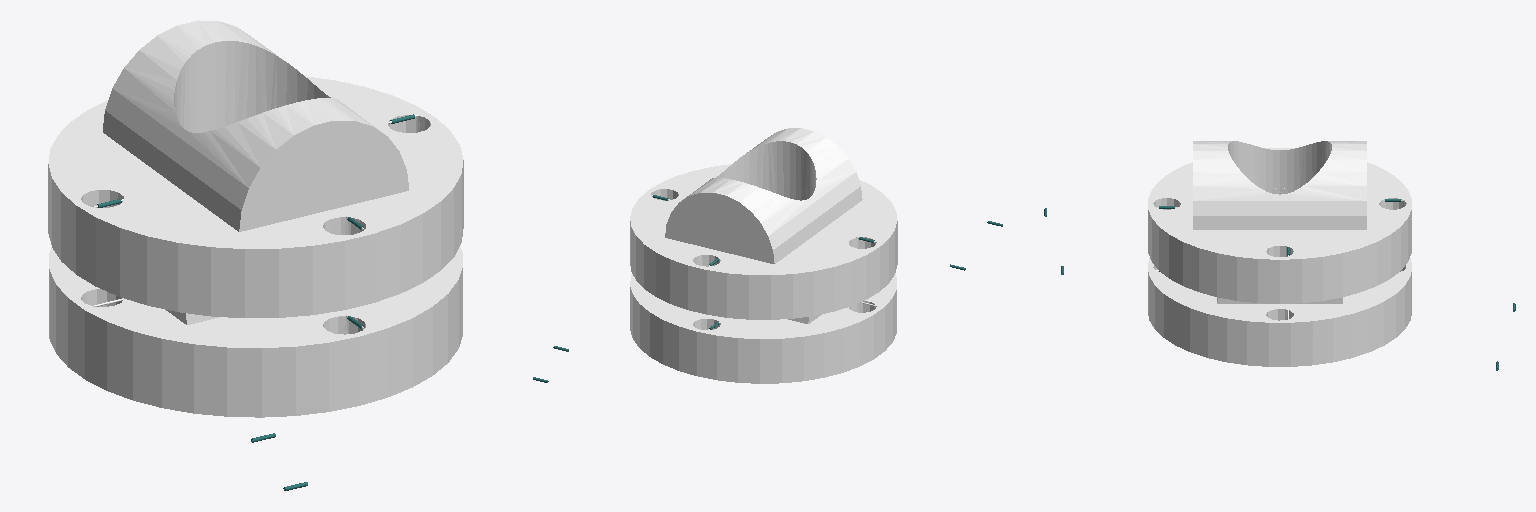
--- Render facts (derived) ---
Views: 3 orthographic renders of the robot side by side, from view 1: azimuth 30°, elevation 25°; view 2: azimuth 150°, elevation 25°; view 3: azimuth 270°, elevation 25°.
Model cylinder_joint_1_pairs_pulley_asm2 with 18 links and 17 joints (17 revolute), rooted at cylinder0_link, posed all joints at 0.
Links seen in each view (by area): view 1: cylinder1_link, cylinder0_link; view 2: cylinder1_link, cylinder0_link; view 3: cylinder1_link, cylinder0_link.
Boxes of the visible links, left/top/right/bottom form: cylinder1_link: left=48, top=20, right=463, bottom=317; cylinder0_link: left=49, top=247, right=462, bottom=417; cylinder1_link: left=630, top=128, right=897, bottom=319; cylinder0_link: left=630, top=274, right=896, bottom=383; cylinder1_link: left=1148, top=141, right=1411, bottom=303; cylinder0_link: left=1148, top=188, right=1411, bottom=366.
Size in the robot's own frame: 0.004 by 0.0068 by 0.0026 metres.
18 mesh visuals loaded from 18 distinct referenced files (18 binary STL).

URDF robot description (cylinder_joint_1_pairs_pulley_asm2):
<?xml version="1.0" encoding="utf-8"?>
<!-- This URDF was automatically created by SolidWorks to URDF Exporter! Originally created by Stephen Brawner ([email redacted]) 
     Commit Version: 1.5.1-0-g916b5db  Build Version: 1.5.7152.31018
     For more information, please see http://wiki.ros.org/sw_urdf_exporter -->
<robot
  name="cylinder_joint_1_pairs_pulley_asm2">
  <link
    name="cylinder0_link">
    <inertial>
      <origin
        xyz="-2.21147901286285E-08 -1.17124714240567E-08 0.000538226424546475"
        rpy="0 0 0" />
      <mass
        value="7.14460666884203E-06" />
      <inertia
        ixx="7.09666315631358E-12"
        ixy="4.28779632331602E-17"
        ixz="7.2023311115337E-17"
        iyy="8.71354562102051E-12"
        iyz="1.15784843060722E-16"
        izz="1.39389111967457E-11" />
    </inertial>
    <visual>
      <origin
        xyz="0 0 0"
        rpy="0 0 0" />
      <geometry>
        <mesh
          filename="package://cylinder_joint_1_pairs_pulley_asm2/meshes/cylinder0_link.STL" />
      </geometry>
      <material
        name="">
        <color
          rgba="1 1 1 1" />
      </material>
    </visual>
    <collision>
      <origin
        xyz="0 0 0"
        rpy="0 0 0" />
      <geometry>
        <mesh
          filename="package://cylinder_joint_1_pairs_pulley_asm2/meshes/cylinder0_link.STL" />
      </geometry>
    </collision>
  </link>
  <link
    name="cylinder1_link">
    <inertial>
      <origin
        xyz="2.21147901282573E-08 0.000838226424546475 -1.17124714242402E-08"
        rpy="0 0 0" />
      <mass
        value="7.14460666884203E-06" />
      <inertia
        ixx="7.09666315631358E-12"
        ixy="-7.20233111152591E-17"
        ixz="-4.28779632334134E-17"
        iyy="1.39389111967457E-11"
        iyz="1.15784843059987E-16"
        izz="8.7135456210205E-12" />
    </inertial>
    <visual>
      <origin
        xyz="0 0 0"
        rpy="0 0 0" />
      <geometry>
        <mesh
          filename="package://cylinder_joint_1_pairs_pulley_asm2/meshes/cylinder1_link.STL" />
      </geometry>
      <material
        name="">
        <color
          rgba="1 1 1 1" />
      </material>
    </visual>
    <collision>
      <origin
        xyz="0 0 0"
        rpy="0 0 0" />
      <geometry>
        <mesh
          filename="package://cylinder_joint_1_pairs_pulley_asm2/meshes/cylinder1_link.STL" />
      </geometry>
    </collision>
  </link>
  <joint
    name="cylinder1_joint"
    type="revolute">
    <origin
      xyz="0 0 0.0007"
      rpy="1.5708 0 1.5708" />
    <parent
      link="cylinder0_link" />
    <child
      link="cylinder1_link" />
    <axis
      xyz="0 0 -1" />
    <limit
      lower="0"
      upper="0"
      effort="0"
      velocity="0" />
  </joint>
  <link
    name="cylinder1_pulley_link1">
    <inertial>
      <origin
        xyz="-0.00174 0 -0.0015"
        rpy="0 0 0" />
      <mass
        value="2.26194671058465E-10" />
      <inertia
        ixx="5.65486677646163E-20"
        ixy="-7.97784710100195E-35"
        ixz="-5.89192351390783E-36"
        iyy="1.11400875496839E-18"
        iyz="2.88794327436936E-52"
        izz="1.11400875496839E-18" />
    </inertial>
    <visual>
      <origin
        xyz="0 0 0"
        rpy="0 0 0" />
      <geometry>
        <mesh
          filename="package://cylinder_joint_1_pairs_pulley_asm2/meshes/cylinder1_pulley_link1.STL" />
      </geometry>
      <material
        name="">
        <color
          rgba="0.250980392156863 0.501960784313725 0.501960784313725 1" />
      </material>
    </visual>
    <collision>
      <origin
        xyz="0 0 0"
        rpy="0 0 0" />
      <geometry>
        <mesh
          filename="package://cylinder_joint_1_pairs_pulley_asm2/meshes/cylinder1_pulley_link1.STL" />
      </geometry>
    </collision>
  </link>
  <joint
    name="cylinder1_pulley_joint1"
    type="revolute">
    <origin
      xyz="0.00012 0.001 0.00162"
      rpy="0 0 0" />
    <parent
      link="cylinder1_link" />
    <child
      link="cylinder1_pulley_link1" />
    <axis
      xyz="0 0 1" />
    <limit
      lower="0"
      upper="0"
      effort="0"
      velocity="0" />
  </joint>
  <link
    name="cylinder1_pulley_link2">
    <inertial>
      <origin
        xyz="-0.0015 2.16840434497101E-19 -0.00174"
        rpy="0 0 0" />
      <mass
        value="2.26194671058465E-10" />
      <inertia
        ixx="5.65486677646163E-20"
        ixy="-7.97784710100195E-35"
        ixz="-2.8104356028974E-36"
        iyy="1.11400875496839E-18"
        iyz="4.22977567219675E-51"
        izz="1.11400875496839E-18" />
    </inertial>
    <visual>
      <origin
        xyz="0 0 0"
        rpy="0 0 0" />
      <geometry>
        <mesh
          filename="package://cylinder_joint_1_pairs_pulley_asm2/meshes/cylinder1_pulley_link2.STL" />
      </geometry>
      <material
        name="">
        <color
          rgba="0.250980392156863 0.501960784313725 0.501960784313725 1" />
      </material>
    </visual>
    <collision>
      <origin
        xyz="0 0 0"
        rpy="0 0 0" />
      <geometry>
        <mesh
          filename="package://cylinder_joint_1_pairs_pulley_asm2/meshes/cylinder1_pulley_link2.STL" />
      </geometry>
    </collision>
  </link>
  <joint
    name="cylinder1_pulley_joint2"
    type="revolute">
    <origin
      xyz="-0.00012 0.0003 0.00162"
      rpy="0 0 0" />
    <parent
      link="cylinder1_link" />
    <child
      link="cylinder1_pulley_link2" />
    <axis
      xyz="0 0 1" />
    <limit
      lower="0"
      upper="0"
      effort="0"
      velocity="0" />
  </joint>
  <link
    name="cylinder1_pulley_link3">
    <inertial>
      <origin
        xyz="0.00149999999999998 4.33680868994202E-19 -0.00174"
        rpy="0 0 0" />
      <mass
        value="2.26194671058465E-10" />
      <inertia
        ixx="5.65486677646163E-20"
        ixy="-7.73412529070568E-51"
        ixz="-1.08812172603781E-34"
        iyy="1.11400875496777E-18"
        iyz="0"
        izz="1.11400875496777E-18" />
    </inertial>
    <visual>
      <origin
        xyz="0 0 0"
        rpy="0 0 0" />
      <geometry>
        <mesh
          filename="package://cylinder_joint_1_pairs_pulley_asm2/meshes/cylinder1_pulley_link3.STL" />
      </geometry>
      <material
        name="">
        <color
          rgba="0.250980392156863 0.501960784313725 0.501960784313725 1" />
      </material>
    </visual>
    <collision>
      <origin
        xyz="0 0 0"
        rpy="0 0 0" />
      <geometry>
        <mesh
          filename="package://cylinder_joint_1_pairs_pulley_asm2/meshes/cylinder1_pulley_link3.STL" />
      </geometry>
    </collision>
  </link>
  <joint
    name="cylinder1_pulley_joint3"
    type="revolute">
    <origin
      xyz="0.00162 0.001 -0.00012"
      rpy="0 1.5708 0" />
    <parent
      link="cylinder1_link" />
    <child
      link="cylinder1_pulley_link3" />
    <axis
      xyz="0 0 1" />
    <limit
      lower="0"
      upper="0"
      effort="0"
      velocity="0" />
  </joint>
  <link
    name="cylinder1_pulley_link4">
    <inertial>
      <origin
        xyz="0.00173999999999999 -4.33680868994202E-19 -0.0015"
        rpy="0 0 0" />
      <mass
        value="2.26194671058465E-10" />
      <inertia
        ixx="5.65486677646163E-20"
        ixy="-7.73412529049776E-51"
        ixz="-1.08812172602742E-34"
        iyy="1.11400875495822E-18"
        iyz="0"
        izz="1.11400875495822E-18" />
    </inertial>
    <visual>
      <origin
        xyz="0 0 0"
        rpy="0 0 0" />
      <geometry>
        <mesh
          filename="package://cylinder_joint_1_pairs_pulley_asm2/meshes/cylinder1_pulley_link4.STL" />
      </geometry>
      <material
        name="">
        <color
          rgba="0.250980392156863 0.501960784313725 0.501960784313725 1" />
      </material>
    </visual>
    <collision>
      <origin
        xyz="0 0 0"
        rpy="0 0 0" />
      <geometry>
        <mesh
          filename="package://cylinder_joint_1_pairs_pulley_asm2/meshes/cylinder1_pulley_link4.STL" />
      </geometry>
    </collision>
  </link>
  <joint
    name="cylinder1_pulley_joint4"
    type="revolute">
    <origin
      xyz="0.00162 0.0003 0.00012"
      rpy="0 1.5708 0" />
    <parent
      link="cylinder1_link" />
    <child
      link="cylinder1_pulley_link4" />
    <axis
      xyz="0 0 1" />
    <limit
      lower="0"
      upper="0"
      effort="0"
      velocity="0" />
  </joint>
  <link
    name="cylinder1_pulley_link5">
    <inertial>
      <origin
        xyz="0.00174 2.16840434497101E-19 0.0015"
        rpy="0 0 0" />
      <mass
        value="2.26194671058465E-10" />
      <inertia
        ixx="5.65486677646163E-20"
        ixy="-1.84164692815845E-34"
        ixz="5.53994514590172E-35"
        iyy="1.11400875496777E-18"
        iyz="1.07524819258416E-36"
        izz="1.11400875496777E-18" />
    </inertial>
    <visual>
      <origin
        xyz="0 0 0"
        rpy="0 0 0" />
      <geometry>
        <mesh
          filename="package://cylinder_joint_1_pairs_pulley_asm2/meshes/cylinder1_pulley_link5.STL" />
      </geometry>
      <material
        name="">
        <color
          rgba="0.250980392156863 0.501960784313725 0.501960784313725 1" />
      </material>
    </visual>
    <collision>
      <origin
        xyz="0 0 0"
        rpy="0 0 0" />
      <geometry>
        <mesh
          filename="package://cylinder_joint_1_pairs_pulley_asm2/meshes/cylinder1_pulley_link5.STL" />
      </geometry>
    </collision>
  </link>
  <joint
    name="cylinder1_pulley_joint5"
    type="revolute">
    <origin
      xyz="-0.00012 0.001 -0.00162"
      rpy="0 0 0" />
    <parent
      link="cylinder1_link" />
    <child
      link="cylinder1_pulley_link5" />
    <axis
      xyz="0 0 -1" />
    <limit
      lower="0"
      upper="0"
      effort="0"
      velocity="0" />
  </joint>
  <link
    name="cylinder1_pulley_link6">
    <inertial>
      <origin
        xyz="0.00149999999999999 4.33680868994202E-19 0.00174"
        rpy="0 0 0" />
      <mass
        value="2.26194671058465E-10" />
      <inertia
        ixx="5.65486677646163E-20"
        ixy="-1.63226740399668E-34"
        ixz="4.11207011338986E-35"
        iyy="1.11400875496777E-18"
        iyz="9.26853785736369E-37"
        izz="1.11400875496777E-18" />
    </inertial>
    <visual>
      <origin
        xyz="0 0 0"
        rpy="0 0 0" />
      <geometry>
        <mesh
          filename="package://cylinder_joint_1_pairs_pulley_asm2/meshes/cylinder1_pulley_link6.STL" />
      </geometry>
      <material
        name="">
        <color
          rgba="0.250980392156863 0.501960784313725 0.501960784313725 1" />
      </material>
    </visual>
    <collision>
      <origin
        xyz="0 0 0"
        rpy="0 0 0" />
      <geometry>
        <mesh
          filename="package://cylinder_joint_1_pairs_pulley_asm2/meshes/cylinder1_pulley_link6.STL" />
      </geometry>
    </collision>
  </link>
  <joint
    name="cylinder1_pulley_joint6"
    type="revolute">
    <origin
      xyz="0.00012 0.0003 -0.00162"
      rpy="0 0 0" />
    <parent
      link="cylinder1_link" />
    <child
      link="cylinder1_pulley_link6" />
    <axis
      xyz="0 0 -1" />
    <limit
      lower="0"
      upper="0"
      effort="0"
      velocity="0" />
  </joint>
  <link
    name="cylinder1_pulley_link7">
    <inertial>
      <origin
        xyz="-0.00149999999999999 2.16840434497101E-19 0.00174"
        rpy="0 0 0" />
      <mass
        value="2.26194671058465E-10" />
      <inertia
        ixx="5.65486677646163E-20"
        ixy="-7.14923246559304E-36"
        ixz="-4.84963182011873E-35"
        iyy="1.11400875494747E-18"
        iyz="-4.65961258688552E-36"
        izz="1.11400875494747E-18" />
    </inertial>
    <visual>
      <origin
        xyz="0 0 0"
        rpy="0 0 0" />
      <geometry>
        <mesh
          filename="package://cylinder_joint_1_pairs_pulley_asm2/meshes/cylinder1_pulley_link7.STL" />
      </geometry>
      <material
        name="">
        <color
          rgba="0.250980392156863 0.501960784313725 0.501960784313725 1" />
      </material>
    </visual>
    <collision>
      <origin
        xyz="0 0 0"
        rpy="0 0 0" />
      <geometry>
        <mesh
          filename="package://cylinder_joint_1_pairs_pulley_asm2/meshes/cylinder1_pulley_link7.STL" />
      </geometry>
    </collision>
  </link>
  <joint
    name="cylinder1_pulley_joint7"
    type="revolute">
    <origin
      xyz="-0.00162 0.001 0.00012"
      rpy="0 1.5708 0" />
    <parent
      link="cylinder1_link" />
    <child
      link="cylinder1_pulley_link7" />
    <axis
      xyz="0 0 -1" />
    <limit
      lower="0"
      upper="0"
      effort="0"
      velocity="0" />
  </joint>
  <link
    name="cylinder1_pulley_link8">
    <inertial>
      <origin
        xyz="-0.00174 -4.33680868994202E-19 0.0015"
        rpy="0 0 0" />
      <mass
        value="2.26194671058465E-10" />
      <inertia
        ixx="5.65486677646162E-20"
        ixy="-1.89513880598251E-36"
        ixz="-5.15205864248841E-35"
        iyy="1.11400875496437E-18"
        iyz="5.20254991764332E-36"
        izz="1.11400875496437E-18" />
    </inertial>
    <visual>
      <origin
        xyz="0 0 0"
        rpy="0 0 0" />
      <geometry>
        <mesh
          filename="package://cylinder_joint_1_pairs_pulley_asm2/meshes/cylinder1_pulley_link8.STL" />
      </geometry>
      <material
        name="">
        <color
          rgba="0.250980392156863 0.501960784313725 0.501960784313725 1" />
      </material>
    </visual>
    <collision>
      <origin
        xyz="0 0 0"
        rpy="0 0 0" />
      <geometry>
        <mesh
          filename="package://cylinder_joint_1_pairs_pulley_asm2/meshes/cylinder1_pulley_link8.STL" />
      </geometry>
    </collision>
  </link>
  <joint
    name="cylinder1_pulley_joint8"
    type="revolute">
    <origin
      xyz="-0.00162 0.0003 -0.00012"
      rpy="0 1.5708 0" />
    <parent
      link="cylinder1_link" />
    <child
      link="cylinder1_pulley_link8" />
    <axis
      xyz="0 0 -1" />
    <limit
      lower="0"
      upper="0"
      effort="0"
      velocity="0" />
  </joint>
  <link
    name="cylinder0_pulley_link1">
    <inertial>
      <origin
        xyz="-0.00174 -8.67361737988404E-19 -0.0015"
        rpy="0 0 0" />
      <mass
        value="2.26194671058465E-10" />
      <inertia
        ixx="5.65486677646163E-20"
        ixy="-8.33647624414051E-35"
        ixz="-6.79704327489692E-35"
        iyy="1.11400875494747E-18"
        iyz="1.05187936488982E-35"
        izz="1.11400875494747E-18" />
    </inertial>
    <visual>
      <origin
        xyz="0 0 0"
        rpy="0 0 0" />
      <geometry>
        <mesh
          filename="package://cylinder_joint_1_pairs_pulley_asm2/meshes/cylinder0_pulley_link1.STL" />
      </geometry>
      <material
        name="">
        <color
          rgba="0.250980392156863 0.501960784313725 0.501960784313725 1" />
      </material>
    </visual>
    <collision>
      <origin
        xyz="0 0 0"
        rpy="0 0 0" />
      <geometry>
        <mesh
          filename="package://cylinder_joint_1_pairs_pulley_asm2/meshes/cylinder0_pulley_link1.STL" />
      </geometry>
    </collision>
  </link>
  <joint
    name="cylinder0_pulley_joint1"
    type="revolute">
    <origin
      xyz="0.00162 0.00012 0.0007"
      rpy="1.5708 0 1.5708" />
    <parent
      link="cylinder0_link" />
    <child
      link="cylinder0_pulley_link1" />
    <axis
      xyz="0 0 1" />
    <limit
      lower="0"
      upper="0"
      effort="0"
      velocity="0" />
  </joint>
  <link
    name="cylinder0_pulley_link2">
    <inertial>
      <origin
        xyz="-0.00150000000000001 -7.89287295950767E-19 -0.00174"
        rpy="0 0 0" />
      <mass
        value="2.26194671058465E-10" />
      <inertia
        ixx="5.65486677646163E-20"
        ixy="5.68811103690046E-47"
        ixz="-7.50772634595873E-35"
        iyy="1.11400875496777E-18"
        iyz="0"
        izz="1.11400875496777E-18" />
    </inertial>
    <visual>
      <origin
        xyz="0 0 0"
        rpy="0 0 0" />
      <geometry>
        <mesh
          filename="package://cylinder_joint_1_pairs_pulley_asm2/meshes/cylinder0_pulley_link2.STL" />
      </geometry>
      <material
        name="">
        <color
          rgba="0.250980392156863 0.501960784313725 0.501960784313725 1" />
      </material>
    </visual>
    <collision>
      <origin
        xyz="0 0 0"
        rpy="0 0 0" />
      <geometry>
        <mesh
          filename="package://cylinder_joint_1_pairs_pulley_asm2/meshes/cylinder0_pulley_link2.STL" />
      </geometry>
    </collision>
  </link>
  <joint
    name="cylinder0_pulley_joint2"
    type="revolute">
    <origin
      xyz="0.00162 -0.00012 0"
      rpy="1.5708 0 1.5708" />
    <parent
      link="cylinder0_link" />
    <child
      link="cylinder0_pulley_link2" />
    <axis
      xyz="0 0 1" />
    <limit
      lower="0"
      upper="0"
      effort="0"
      velocity="0" />
  </joint>
  <link
    name="cylinder0_pulley_link3">
    <inertial>
      <origin
        xyz="0.0015 2.60208521396521E-18 -0.00173999999999998"
        rpy="0 0 0" />
      <mass
        value="2.26194671058465E-10" />
      <inertia
        ixx="5.65486677646163E-20"
        ixy="8.2661449393321E-35"
        ixz="1.02066884131912E-34"
        iyy="1.11400875496777E-18"
        iyz="1.28292706084425E-49"
        izz="1.11400875496777E-18" />
    </inertial>
    <visual>
      <origin
        xyz="0 0 0"
        rpy="0 0 0" />
      <geometry>
        <mesh
          filename="package://cylinder_joint_1_pairs_pulley_asm2/meshes/cylinder0_pulley_link3.STL" />
      </geometry>
      <material
        name="">
        <color
          rgba="0.250980392156863 0.501960784313725 0.501960784313725 1" />
      </material>
    </visual>
    <collision>
      <origin
        xyz="0 0 0"
        rpy="0 0 0" />
      <geometry>
        <mesh
          filename="package://cylinder_joint_1_pairs_pulley_asm2/meshes/cylinder0_pulley_link3.STL" />
      </geometry>
    </collision>
  </link>
  <joint
    name="cylinder0_pulley_joint3"
    type="revolute">
    <origin
      xyz="-0.00012 0.00162 0.0007"
      rpy="1.5708 0 0" />
    <parent
      link="cylinder0_link" />
    <child
      link="cylinder0_pulley_link3" />
    <axis
      xyz="0 0 1" />
    <limit
      lower="0"
      upper="0"
      effort="0"
      velocity="0" />
  </joint>
  <link
    name="cylinder0_pulley_link4">
    <inertial>
      <origin
        xyz="0.00173999999999999 -3.22505617460437E-18 -0.0015"
        rpy="0 0 0" />
      <mass
        value="2.26194671058465E-10" />
      <inertia
        ixx="5.65486677646163E-20"
        ixy="2.05752215733798E-34"
        ixz="1.31335460949779E-34"
        iyy="1.11400875496839E-18"
        iyz="-9.36046151559757E-38"
        izz="1.11400875496839E-18" />
    </inertial>
    <visual>
      <origin
        xyz="0 0 0"
        rpy="0 0 0" />
      <geometry>
        <mesh
          filename="package://cylinder_joint_1_pairs_pulley_asm2/meshes/cylinder0_pulley_link4.STL" />
      </geometry>
      <material
        name="">
        <color
          rgba="0.250980392156863 0.501960784313725 0.501960784313725 1" />
      </material>
    </visual>
    <collision>
      <origin
        xyz="0 0 0"
        rpy="0 0 0" />
      <geometry>
        <mesh
          filename="package://cylinder_joint_1_pairs_pulley_asm2/meshes/cylinder0_pulley_link4.STL" />
      </geometry>
    </collision>
  </link>
  <joint
    name="cylinder0_pulley_joint4"
    type="revolute">
    <origin
      xyz="0.00012 0.00162 0"
      rpy="1.5708 0 0" />
    <parent
      link="cylinder0_link" />
    <child
      link="cylinder0_pulley_link4" />
    <axis
      xyz="0 0 1" />
    <limit
      lower="0"
      upper="0"
      effort="0"
      velocity="0" />
  </joint>
  <link
    name="cylinder0_pulley_link5">
    <inertial>
      <origin
        xyz="0.00174000000000002 2.81892564846231E-18 0.0015"
        rpy="0 0 0" />
      <mass
        value="2.26194671058465E-10" />
      <inertia
        ixx="5.65486677646163E-20"
        ixy="-7.57951255924039E-35"
        ixz="5.72020896650056E-36"
        iyy="1.11400875497368E-18"
        iyz="2.33439072141097E-36"
        izz="1.11400875497368E-18" />
    </inertial>
    <visual>
      <origin
        xyz="0 0 0"
        rpy="0 0 0" />
      <geometry>
        <mesh
          filename="package://cylinder_joint_1_pairs_pulley_asm2/meshes/cylinder0_pulley_link5.STL" />
      </geometry>
      <material
        name="">
        <color
          rgba="0.250980392156863 0.501960784313725 0.501960784313725 1" />
      </material>
    </visual>
    <collision>
      <origin
        xyz="0 0 0"
        rpy="0 0 0" />
      <geometry>
        <mesh
          filename="package://cylinder_joint_1_pairs_pulley_asm2/meshes/cylinder0_pulley_link5.STL" />
      </geometry>
    </collision>
  </link>
  <joint
    name="cylinder0_pulley_joint5"
    type="revolute">
    <origin
      xyz="-0.00162 -0.00012 0.0007"
      rpy="1.5708 0 1.5708" />
    <parent
      link="cylinder0_link" />
    <child
      link="cylinder0_pulley_link5" />
    <axis
      xyz="0 0 -1" />
    <limit
      lower="0"
      upper="0"
      effort="0"
      velocity="0" />
  </joint>
  <link
    name="cylinder0_pulley_link6">
    <inertial>
      <origin
        xyz="0.00150000000000002 2.92768112849256E-18 0.00174"
        rpy="0 0 0" />
      <mass
        value="2.26194671058465E-10" />
      <inertia
        ixx="5.65486677646163E-20"
        ixy="-1.10620285092224E-35"
        ixz="-2.59033957975933E-36"
        iyy="1.11400875495822E-18"
        iyz="-1.08333559371783E-37"
        izz="1.11400875495822E-18" />
    </inertial>
    <visual>
      <origin
        xyz="0 0 0"
        rpy="0 0 0" />
      <geometry>
        <mesh
          filename="package://cylinder_joint_1_pairs_pulley_asm2/meshes/cylinder0_pulley_link6.STL" />
      </geometry>
      <material
        name="">
        <color
          rgba="0.250980392156863 0.501960784313725 0.501960784313725 1" />
      </material>
    </visual>
    <collision>
      <origin
        xyz="0 0 0"
        rpy="0 0 0" />
      <geometry>
        <mesh
          filename="package://cylinder_joint_1_pairs_pulley_asm2/meshes/cylinder0_pulley_link6.STL" />
      </geometry>
    </collision>
  </link>
  <joint
    name="cylinder0_pulley_joint6"
    type="revolute">
    <origin
      xyz="-0.00162 0.00012 0"
      rpy="1.5708 0 1.5708" />
    <parent
      link="cylinder0_link" />
    <child
      link="cylinder0_pulley_link6" />
    <axis
      xyz="0 0 -1" />
    <limit
      lower="0"
      upper="0"
      effort="0"
      velocity="0" />
  </joint>
  <link
    name="cylinder0_pulley_link7">
    <inertial>
      <origin
        xyz="-0.0015 -0.000699999999999999 0.0015"
        rpy="0 0 0" />
      <mass
        value="2.26194671058465E-10" />
      <inertia
        ixx="5.65486677646163E-20"
        ixy="1.02046792576044E-34"
        ixz="5.58802109604559E-35"
        iyy="1.11400875496777E-18"
        iyz="3.44135375158031E-36"
        izz="1.11400875496777E-18" />
    </inertial>
    <visual>
      <origin
        xyz="0 0 0"
        rpy="0 0 0" />
      <geometry>
        <mesh
          filename="package://cylinder_joint_1_pairs_pulley_asm2/meshes/cylinder0_pulley_link7.STL" />
      </geometry>
      <material
        name="">
        <color
          rgba="0.250980392156863 0.501960784313725 0.501960784313725 1" />
      </material>
    </visual>
    <collision>
      <origin
        xyz="0 0 0"
        rpy="0 0 0" />
      <geometry>
        <mesh
          filename="package://cylinder_joint_1_pairs_pulley_asm2/meshes/cylinder0_pulley_link7.STL" />
      </geometry>
    </collision>
  </link>
  <joint
    name="cylinder0_pulley_joint7"
    type="revolute">
    <origin
      xyz="0.00012 -0.00162 0.0007"
      rpy="1.5708 0 0" />
    <parent
      link="cylinder0_link" />
    <child
      link="cylinder0_pulley_link7" />
    <axis
      xyz="0 0 -1" />
    <limit
      lower="0"
      upper="0"
      effort="0"
      velocity="0" />
  </joint>
  <link
    name="cylinder0_pulley_link8">
    <inertial>
      <origin
        xyz="-0.00174 0.000699999999999999 0.00174000000000001"
        rpy="0 0 0" />
      <mass
        value="2.26194671058465E-10" />
      <inertia
        ixx="5.65486677646163E-20"
        ixy="4.20394117335077E-35"
        ixz="7.25201928262088E-35"
        iyy="1.11400875496777E-18"
        iyz="-1.30714971811555E-38"
        izz="1.11400875496777E-18" />
    </inertial>
    <visual>
      <origin
        xyz="0 0 0"
        rpy="0 0 0" />
      <geometry>
        <mesh
          filename="package://cylinder_joint_1_pairs_pulley_asm2/meshes/cylinder0_pulley_link8.STL" />
      </geometry>
      <material
        name="">
        <color
          rgba="0.250980392156863 0.501960784313725 0.501960784313725 1" />
      </material>
    </visual>
    <collision>
      <origin
        xyz="0 0 0"
        rpy="0 0 0" />
      <geometry>
        <mesh
          filename="package://cylinder_joint_1_pairs_pulley_asm2/meshes/cylinder0_pulley_link8.STL" />
      </geometry>
    </collision>
  </link>
  <joint
    name="cylinder0_pulley_joint8"
    type="revolute">
    <origin
      xyz="-0.00012 -0.00162 0"
      rpy="1.5708 0 0" />
    <parent
      link="cylinder0_link" />
    <child
      link="cylinder0_pulley_link8" />
    <axis
      xyz="0 0 -1" />
    <limit
      lower="0"
      upper="0"
      effort="0"
      velocity="0" />
  </joint>
</robot>
